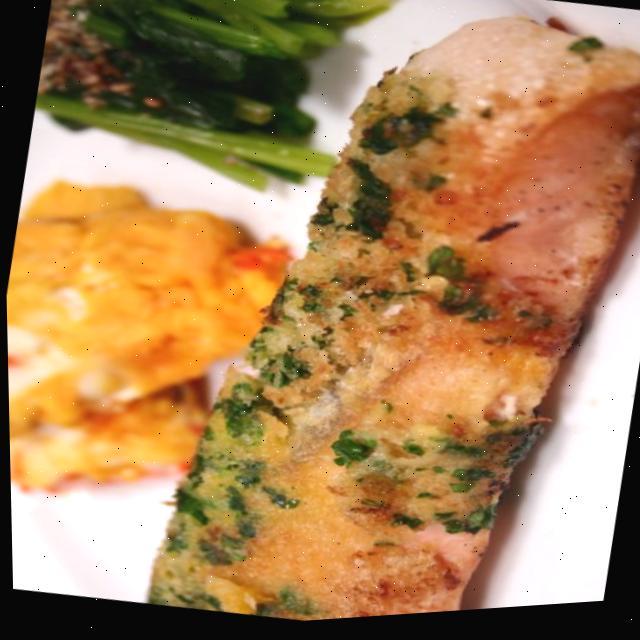熟制海鲜: (90, 0, 640, 635)
